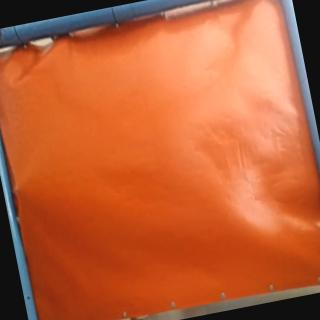Hit-hRxx: (10, 180, 25, 200)
